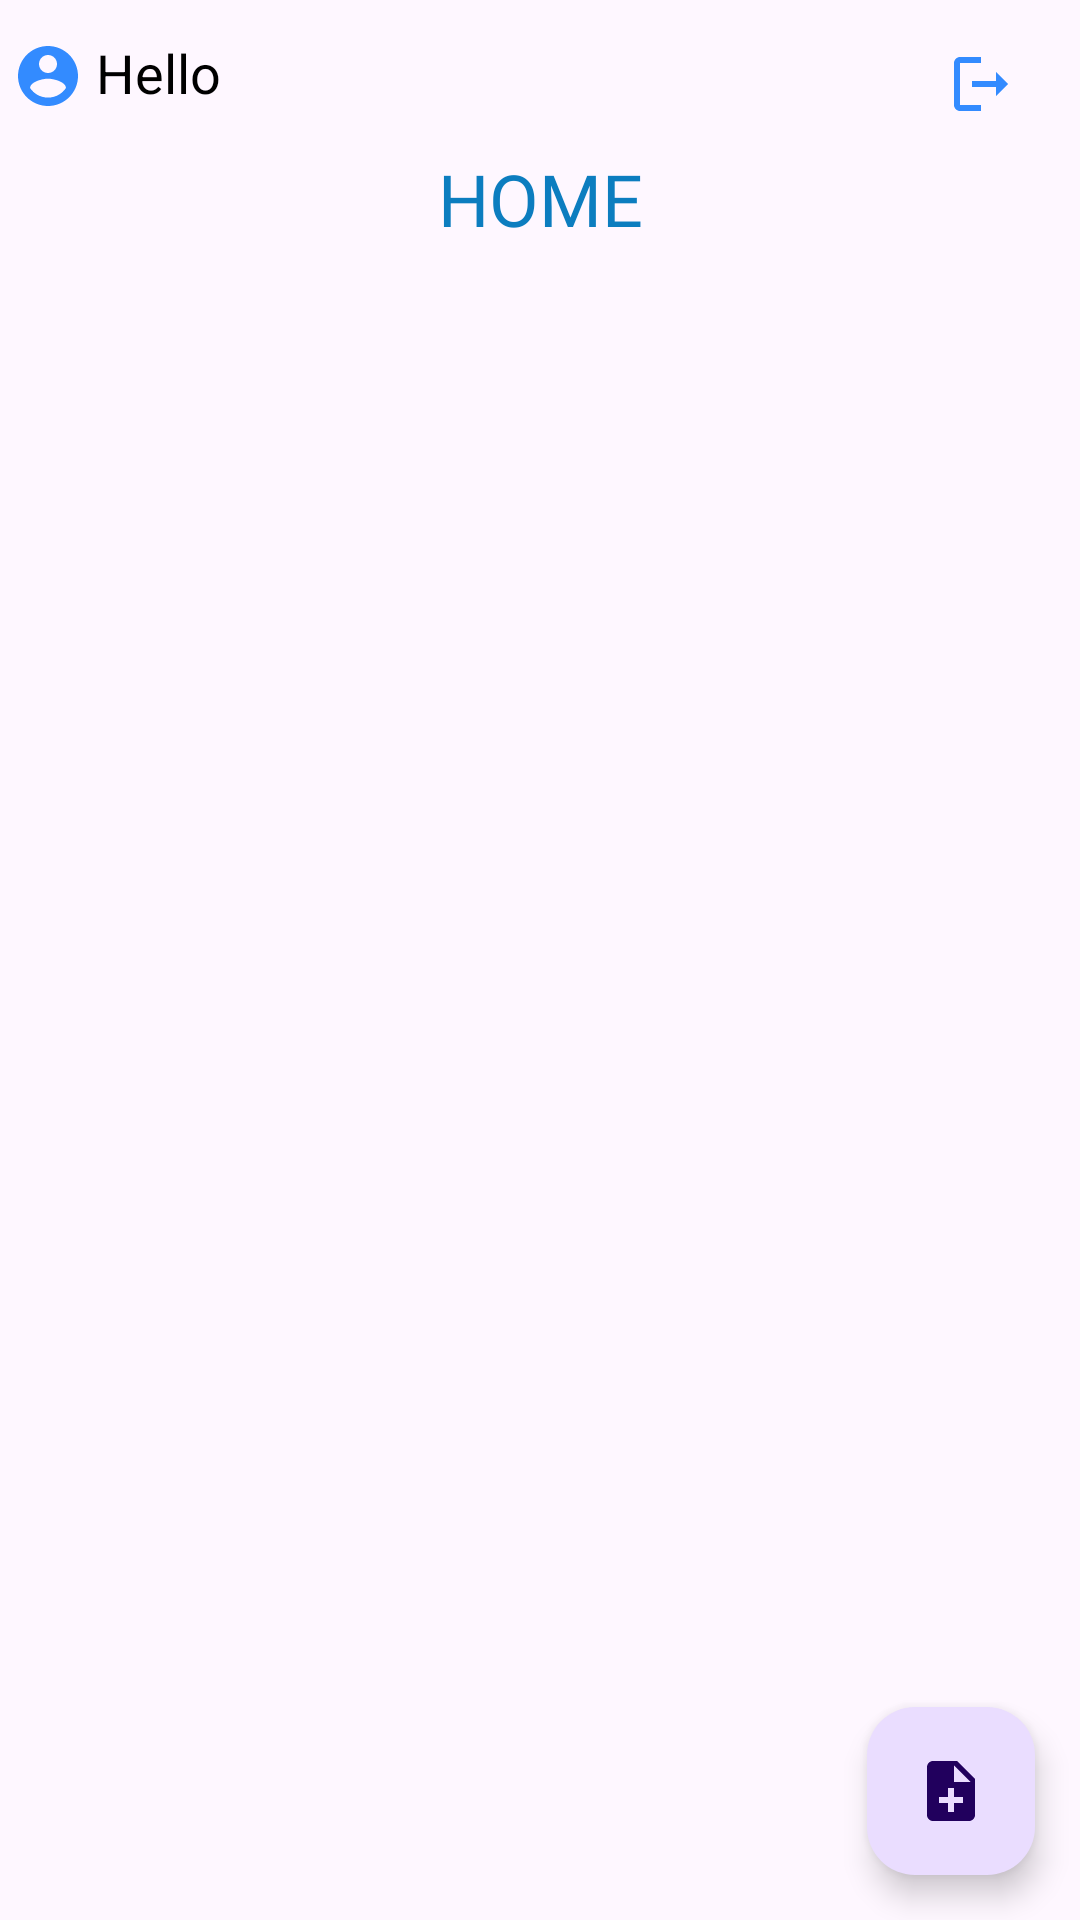

Screen size 1080px×1920px. Icon name, then its box in pixels as (x1, y1, x2, y2):
account circle: (18, 46, 78, 106)
note add: (867, 1707, 1035, 1875)
